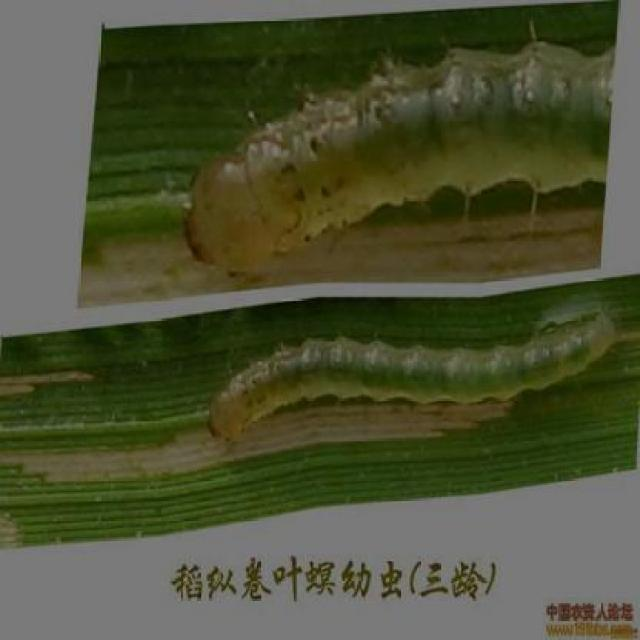leaf-folder: (182, 48, 598, 260), (210, 305, 588, 429)
